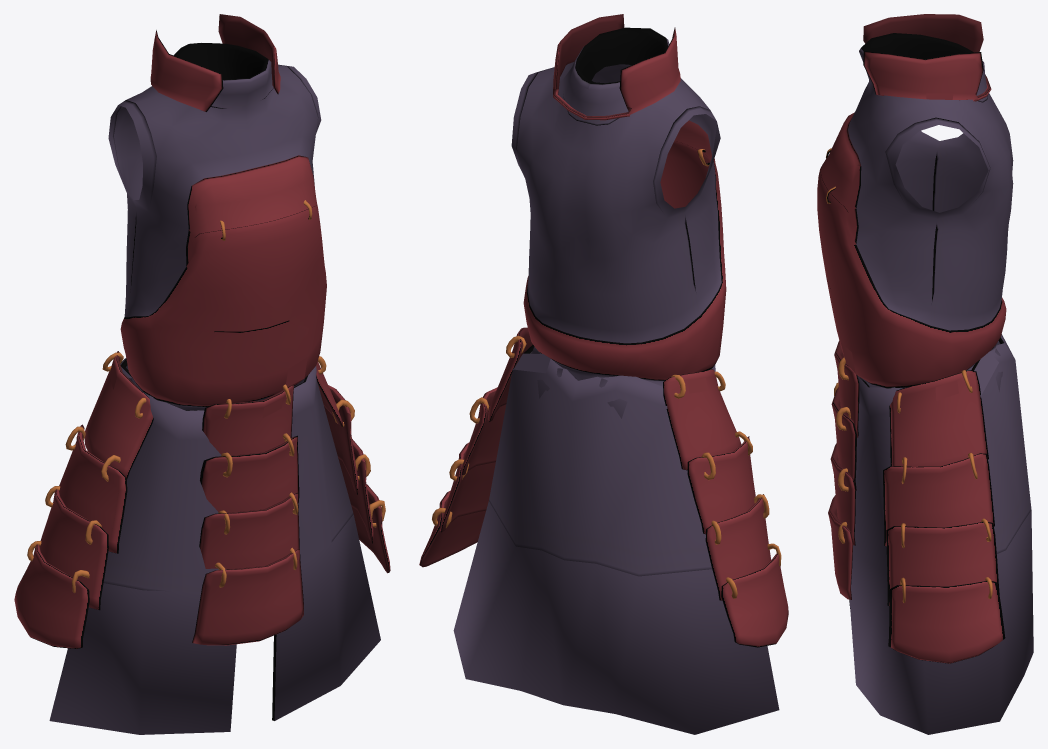
Rendered from body.obj.
3 views of the same model, side by side, from view 1: azimuth 30°, elevation 25°; view 2: azimuth 150°, elevation 25°; view 3: azimuth 270°, elevation 25° (orthographic). The views are drawn at different scales.
Visible parts, largest first — view 1: mada:L2_Madara_torso_Plane_011_Blender_Render_Madara_Material, mada:L2_Madara_Lower_robe_Plane_009_Blender_Render_Madara_Materi, mada:L2_Madara_Lower_Metal_Plates_Middle_Plane_005_Blender_Rende, mada:L2_Madara_Lower_Metal_Plates_Left_Plane_007_Blender_Render_, mada:L2_Madara_Upper_Metal_Plates_Plane_010_Blender_Render_Madar, mada:L2_Madara_Lower_Metal_Plates_Right_Plane_008_Blender_Render, mada:L2_Madara_torso_Plane_011_Blender_Render_Madara_Material_NO; view 2: mada:L2_Madara_Lower_robe_Plane_009_Blender_Render_Madara_Materi, mada:L2_Madara_torso_Plane_011_Blender_Render_Madara_Material, mada:L2_Madara_Lower_Metal_Plates_Left_Plane_007_Blender_Render_, mada:L2_Madara_Lower_Metal_Plates_Right_Plane_008_Blender_Render, mada:L2_Madara_Upper_Metal_Plates_Plane_010_Blender_Render_Madar, mada:L2_Madara_torso_Plane_011_Blender_Render_Madara_Material_NO; view 3: mada:L2_Madara_torso_Plane_011_Blender_Render_Madara_Material, mada:L2_Madara_Lower_robe_Plane_009_Blender_Render_Madara_Materi, mada:L2_Madara_Lower_Metal_Plates_Right_Plane_008_Blender_Render, mada:L2_Madara_Upper_Metal_Plates_Plane_010_Blender_Render_Madar, mada:L2_Madara_Lower_Metal_Plates_Middle_Plane_005_Blender_Rende, mada:L2_Madara_torso_Plane_011_Blender_Render_Madara_Material_NO.
Boxes of the visible parts, x1,y1,x2,y2 form: mada:L2_Madara_torso_Plane_011_Blender_Render_Madara_Material: (108, 53, 326, 410); mada:L2_Madara_Lower_robe_Plane_009_Blender_Render_Madara_Materi: (49, 358, 380, 734); mada:L2_Madara_Lower_Metal_Plates_Middle_Plane_005_Blender_Rende: (192, 384, 303, 645); mada:L2_Madara_Lower_Metal_Plates_Left_Plane_007_Blender_Render_: (14, 351, 153, 648); mada:L2_Madara_Upper_Metal_Plates_Plane_010_Blender_Render_Madar: (150, 14, 280, 111); mada:L2_Madara_Lower_Metal_Plates_Right_Plane_008_Blender_Render: (316, 356, 390, 573); mada:L2_Madara_torso_Plane_011_Blender_Render_Madara_Material_NO: (174, 43, 309, 238); mada:L2_Madara_Lower_robe_Plane_009_Blender_Render_Madara_Materi: (453, 345, 779, 734); mada:L2_Madara_torso_Plane_011_Blender_Render_Madara_Material: (511, 38, 726, 418); mada:L2_Madara_Lower_Metal_Plates_Left_Plane_007_Blender_Render_: (663, 369, 788, 647); mada:L2_Madara_Lower_Metal_Plates_Right_Plane_008_Blender_Render: (419, 327, 532, 567); mada:L2_Madara_Upper_Metal_Plates_Plane_010_Blender_Render_Madar: (553, 14, 680, 120); mada:L2_Madara_torso_Plane_011_Blender_Render_Madara_Material_NO: (575, 27, 709, 164); mada:L2_Madara_torso_Plane_011_Blender_Render_Madara_Material: (817, 48, 1013, 391); mada:L2_Madara_Lower_robe_Plane_009_Blender_Render_Madara_Materi: (849, 334, 1033, 734); mada:L2_Madara_Lower_Metal_Plates_Right_Plane_008_Blender_Render: (883, 370, 1005, 663); mada:L2_Madara_Upper_Metal_Plates_Plane_010_Blender_Render_Madar: (863, 14, 991, 101); mada:L2_Madara_Lower_Metal_Plates_Middle_Plane_005_Blender_Rende: (828, 340, 859, 599); mada:L2_Madara_torso_Plane_011_Blender_Render_Madara_Material_NO: (826, 33, 973, 202).
Bounding box in the file's own units: 1.51 × 2.72 × 0.832.
2 materials, 2 textured.
